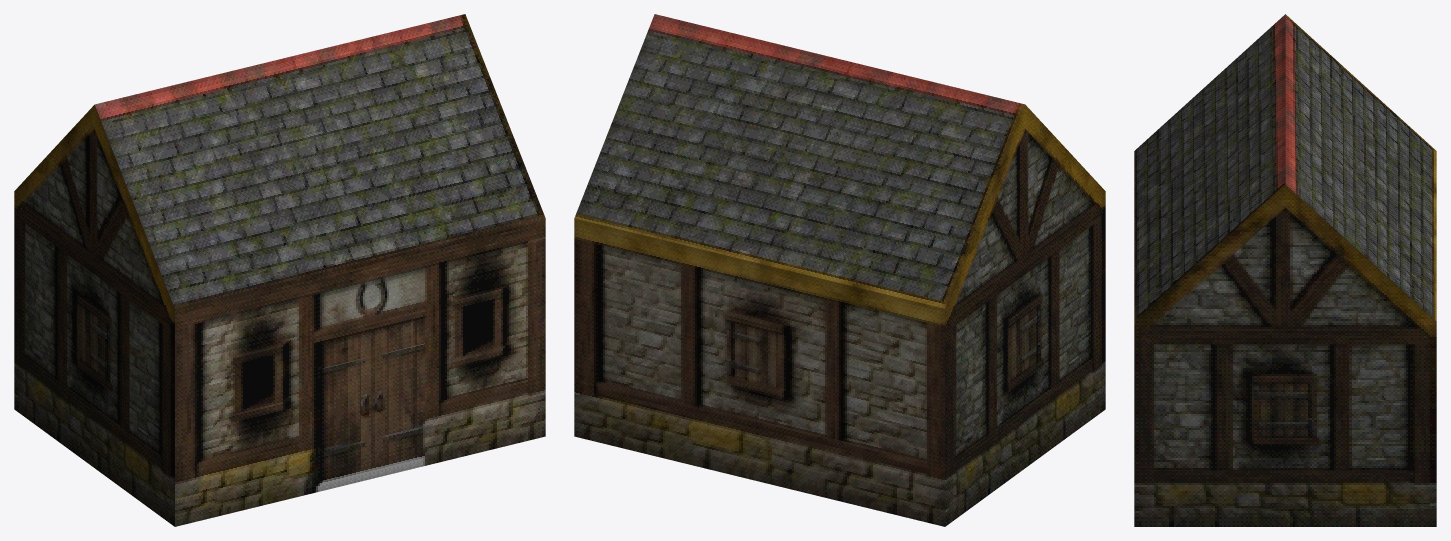
Rendered from forge.glb.
The picture shows the model from 3 angles, left to right: view 1: azimuth 30°, elevation 25°; view 2: azimuth 150°, elevation 25°; view 3: azimuth 270°, elevation 25°; orthographic projection. The views are drawn at different scales.
Visible parts, largest first — view 1: Medieval BlacksmithS Forge; view 2: Medieval BlacksmithS Forge; view 3: Medieval BlacksmithS Forge.
Boxes of the visible parts, x1,y1,x2,y2 form: Medieval BlacksmithS Forge: (14, 14, 545, 526); Medieval BlacksmithS Forge: (574, 14, 1105, 526); Medieval BlacksmithS Forge: (1134, 14, 1436, 526).
Bounding box in the file's own units: 8 × 7.5 × 6.
1 material, 1 textured.
